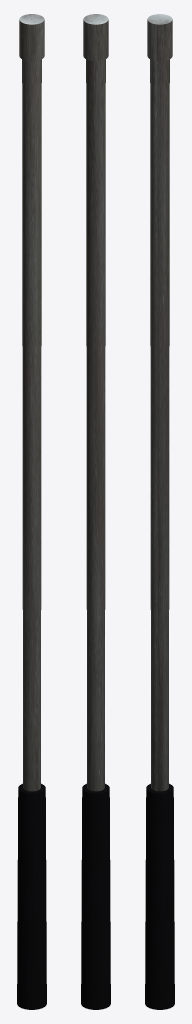
The model's file is Crowbar.fbx.
The picture shows the model from 3 angles, left to right: view 1: azimuth 90°, elevation 25°; view 2: azimuth 150°, elevation 25°; view 3: azimuth 270°, elevation 25°; orthographic projection.
Visible parts, largest first — view 1: Crowbar, Crowbar_HANDAL; view 2: Crowbar, Crowbar_HANDAL; view 3: Crowbar, Crowbar_HANDAL.
Boxes of the visible parts, x1,y1,x2,y2 form: Crowbar: (19,14,44,791); Crowbar_HANDAL: (17,783,46,1009); Crowbar: (83,14,108,791); Crowbar_HANDAL: (81,783,110,1009); Crowbar: (147,14,172,791); Crowbar_HANDAL: (145,783,174,1009).
Size of the model in its own units: 7.89 by 287 by 7.89.
Materials: 2 (2 with a texture image).
